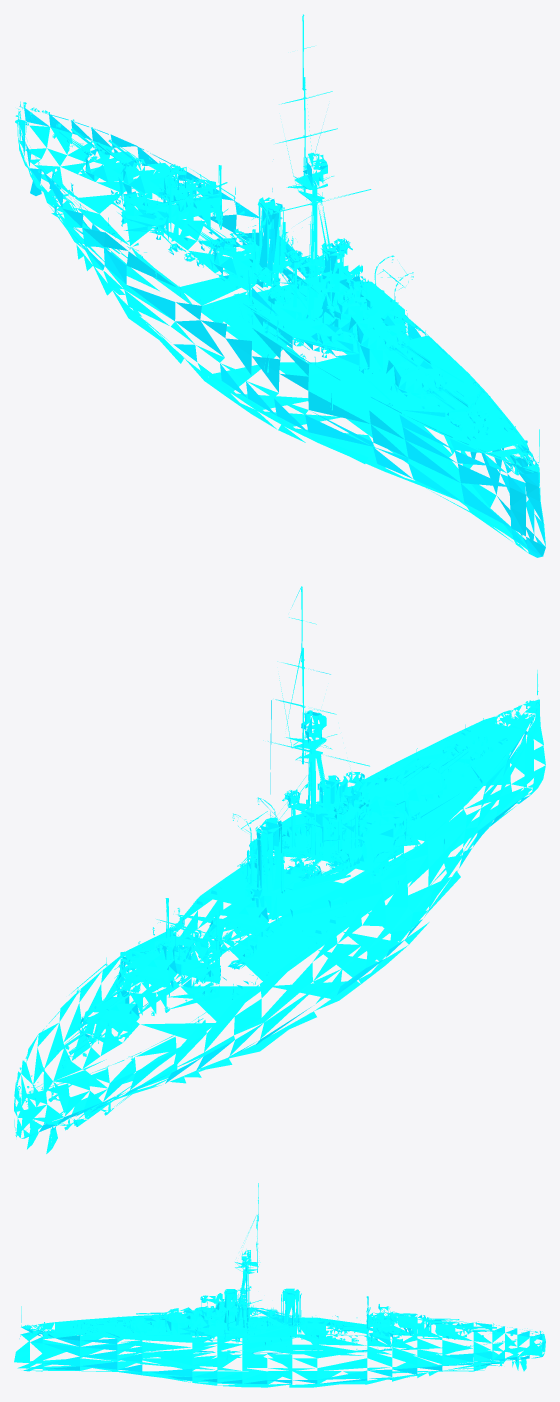
File: PBSB104.glb
The picture shows the model from 3 angles, top to bottom: view 1: azimuth 30°, elevation 25°; view 2: azimuth 150°, elevation 25°; view 3: azimuth 270°, elevation 25°; orthographic projection. The views are drawn at different scales.
Visible parts, largest first — view 1: hull_mid, hull_bow, hull_stern, main_battery, secondary_battery; view 2: hull_mid, hull_bow, hull_stern, main_battery, secondary_battery; view 3: hull_mid, hull_bow, hull_stern, main_battery, secondary_battery.
Boxes of the visible parts, left/top/right/bottom form: hull_mid: left=73, top=14, right=477, bottom=471; hull_bow: left=368, top=373, right=545, bottom=557; hull_stern: left=15, top=101, right=206, bottom=271; main_battery: left=59, top=128, right=468, bottom=410; secondary_battery: left=117, top=177, right=411, bottom=357; hull_mid: left=69, top=586, right=477, bottom=1078; hull_bow: left=367, top=670, right=545, bottom=877; hull_stern: left=14, top=989, right=206, bottom=1153; main_battery: left=56, top=746, right=468, bottom=1054; secondary_battery: left=114, top=816, right=411, bottom=997; hull_mid: left=125, top=1183, right=431, bottom=1387; hull_bow: left=14, top=1306, right=142, bottom=1375; hull_stern: left=417, top=1319, right=545, bottom=1377; main_battery: left=98, top=1307, right=496, bottom=1336; secondary_battery: left=186, top=1305, right=407, bottom=1343.
Size of the model in its own units: 2.15 by 4.59 by 11.79.
